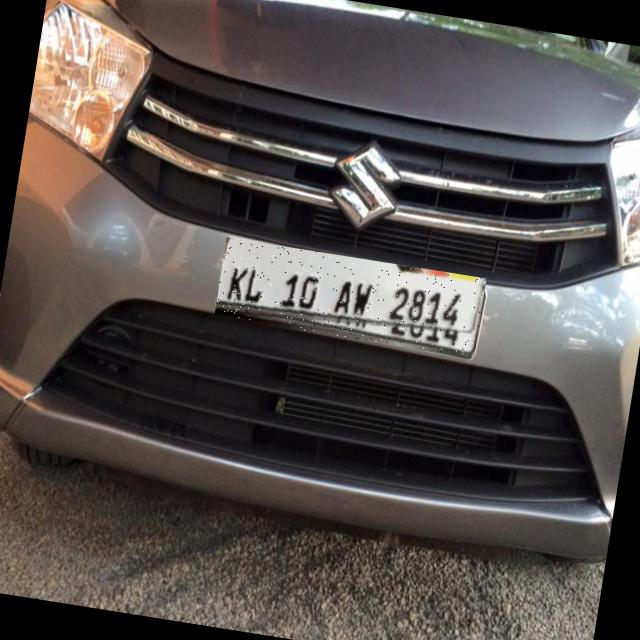Plate: (216, 239, 488, 359)
